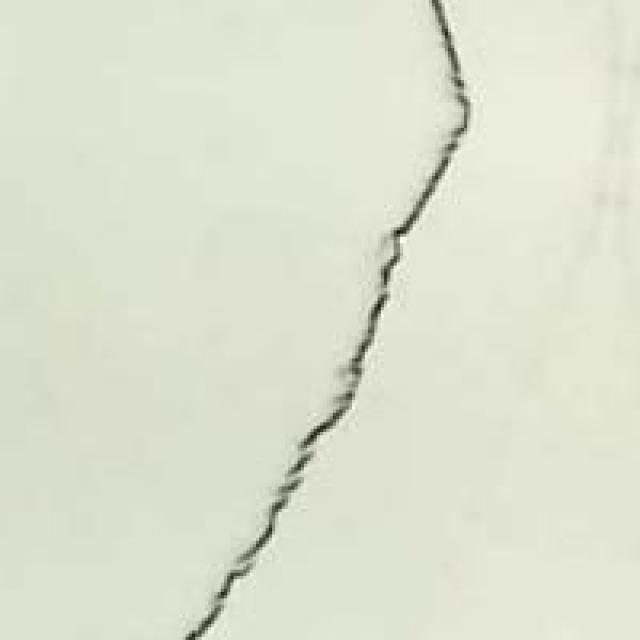Crack: (150, 6, 496, 637)
